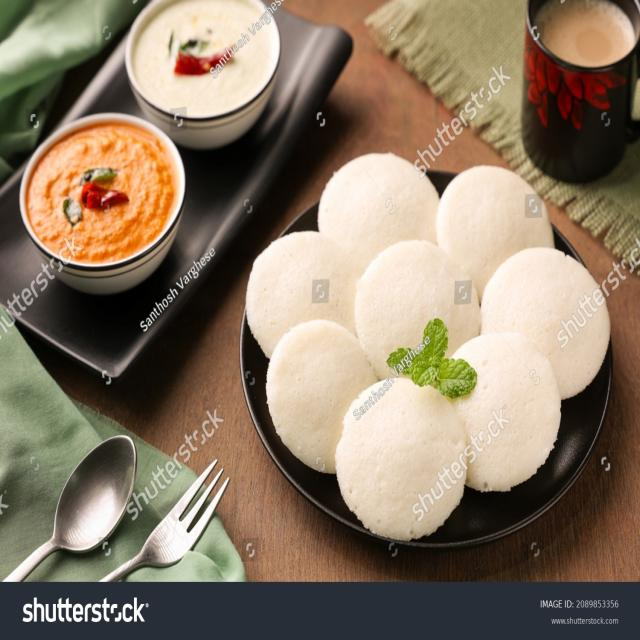IDLI: (244, 155, 614, 548)
